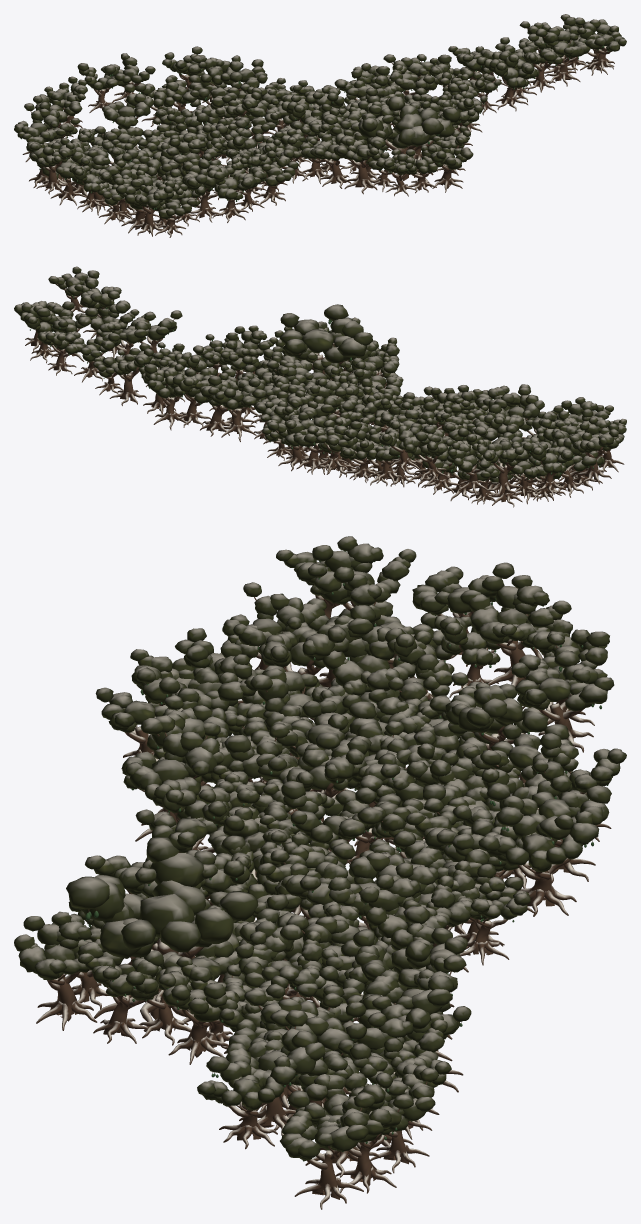
Rendered from BosqueArboles.glb.
3 views of the same model, one above another, from view 1: azimuth 30°, elevation 25°; view 2: azimuth 150°, elevation 25°; view 3: azimuth 270°, elevation 25° (orthographic). The views are drawn at different scales.
Parts seen in each view (by area): view 1: ArbolGigante, ArbolRetorcido027, ArbolRetorcido113, ArbolRetorcido046, ArbolRetorcido110, ArbolRetorcido102, ArbolRetorcido067, ArbolRetorcido054, ArbolRetorcido055, ArbolRetorcido086, ArbolRetorcido011, ArbolRetorcido077 (+71 smaller); view 2: ArbolGigante, ArbolRetorcido077, ArbolRetorcido089, ArbolRetorcido047, ArbolRetorcido015, ArbolRetorcido092, ArbolRetorcido065, ArbolRetorcido120, ArbolRetorcido086, ArbolRetorcido098, ArbolRetorcido117, ArbolRetorcido007 (+59 smaller); view 3: ArbolGigante, ArbolRetorcido112, ArbolRetorcido102, ArbolRetorcido089, ArbolRetorcido037, ArbolRetorcido087, ArbolRetorcido011, ArbolRetorcido046, ArbolRetorcido027, ArbolRetorcido062, ArbolRetorcido110, ArbolRetorcido098 (+87 smaller).
Part boxes in pixels (x1,y1,x2,y2): ArbolGigante: (358,96,460,187); ArbolRetorcido027: (535,26,590,86); ArbolRetorcido113: (333,130,386,194); ArbolRetorcido046: (207,165,256,222); ArbolRetorcido110: (102,84,153,149); ArbolRetorcido102: (427,136,473,192); ArbolRetorcido067: (310,127,356,188); ArbolRetorcido054: (484,59,534,111); ArbolRetorcido055: (182,168,228,222); ArbolRetorcido086: (14,103,59,161); ArbolRetorcido011: (577,25,626,73); ArbolRetorcido077: (334,66,389,100); ArbolGigante: (280,304,372,379); ArbolRetorcido077: (208,375,266,441); ArbolRetorcido089: (483,442,533,496); ArbolRetorcido047: (102,343,153,405); ArbolRetorcido015: (36,301,97,361); ArbolRetorcido092: (307,418,362,472); ArbolRetorcido065: (447,439,491,494); ArbolRetorcido120: (144,363,196,430); ArbolRetorcido086: (528,443,573,495); ArbolRetorcido098: (569,423,619,484); ArbolRetorcido117: (192,378,243,436); ArbolRetorcido007: (65,329,120,382); ArbolGigante: (66,837,258,1031); ArbolRetorcido112: (478,806,599,916); ArbolRetorcido102: (14,912,105,1030); ArbolRetorcido089: (468,575,571,686); ArbolRetorcido037: (280,1092,375,1209); ArbolRetorcido087: (511,650,614,752); ArbolRetorcido011: (197,1055,295,1149); ArbolRetorcido046: (122,715,219,844); ArbolRetorcido027: (225,1009,325,1135); ArbolRetorcido062: (281,780,383,852); ArbolRetorcido110: (445,683,548,777); ArbolRetorcido098: (312,536,416,610).
Bounding box in the file's own units: 216 × 30.75 × 99.15.
